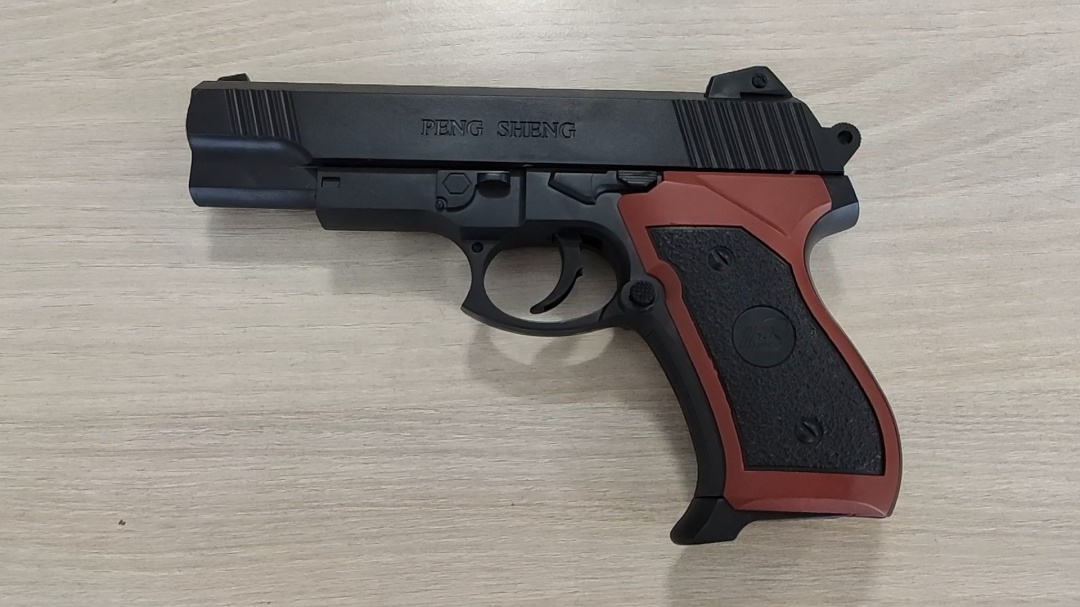gun: (516, 177, 614, 340)
